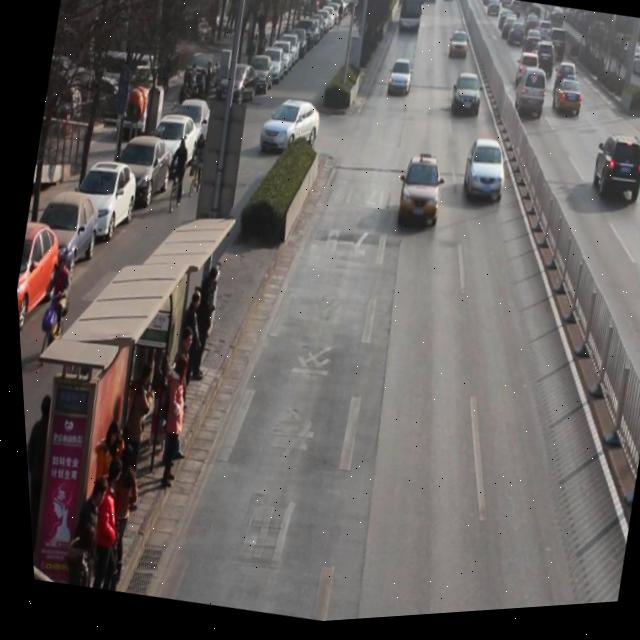car: (253, 93, 324, 163), (584, 136, 640, 217), (391, 154, 445, 234), (455, 141, 509, 212), (444, 75, 485, 128), (547, 81, 585, 128), (384, 63, 414, 105), (510, 57, 541, 97), (528, 48, 556, 89), (542, 32, 568, 73), (445, 33, 470, 68), (499, 19, 519, 49), (505, 28, 526, 55), (521, 35, 541, 62), (537, 45, 557, 71), (554, 70, 575, 89), (536, 28, 554, 47), (548, 13, 565, 31), (524, 17, 539, 36)
truck: (509, 72, 549, 130)
van: (392, 0, 427, 42)
